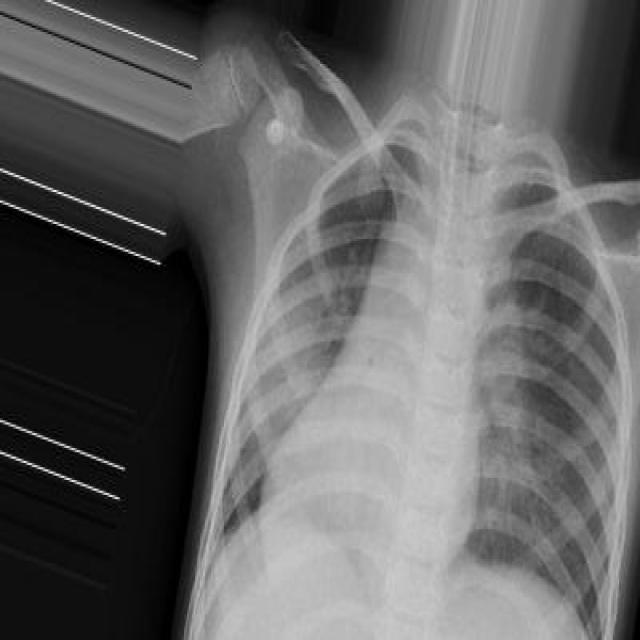bacterial_pneumonia: (5, 8, 640, 640)
